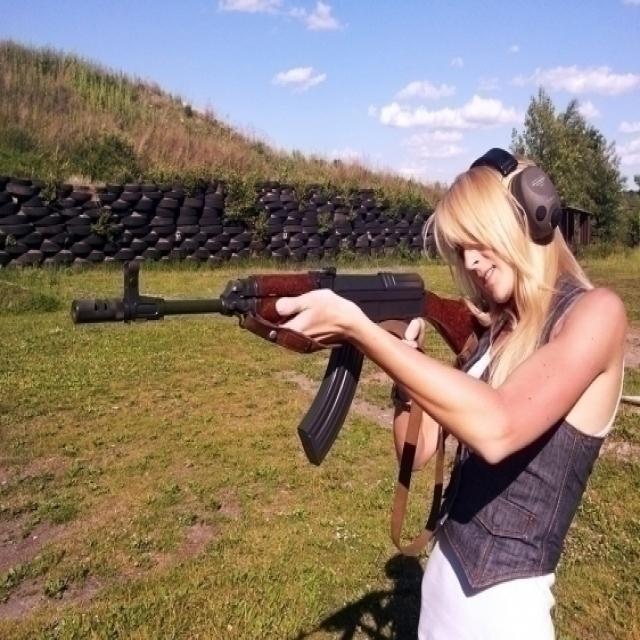weapon: (70, 258, 484, 468)
